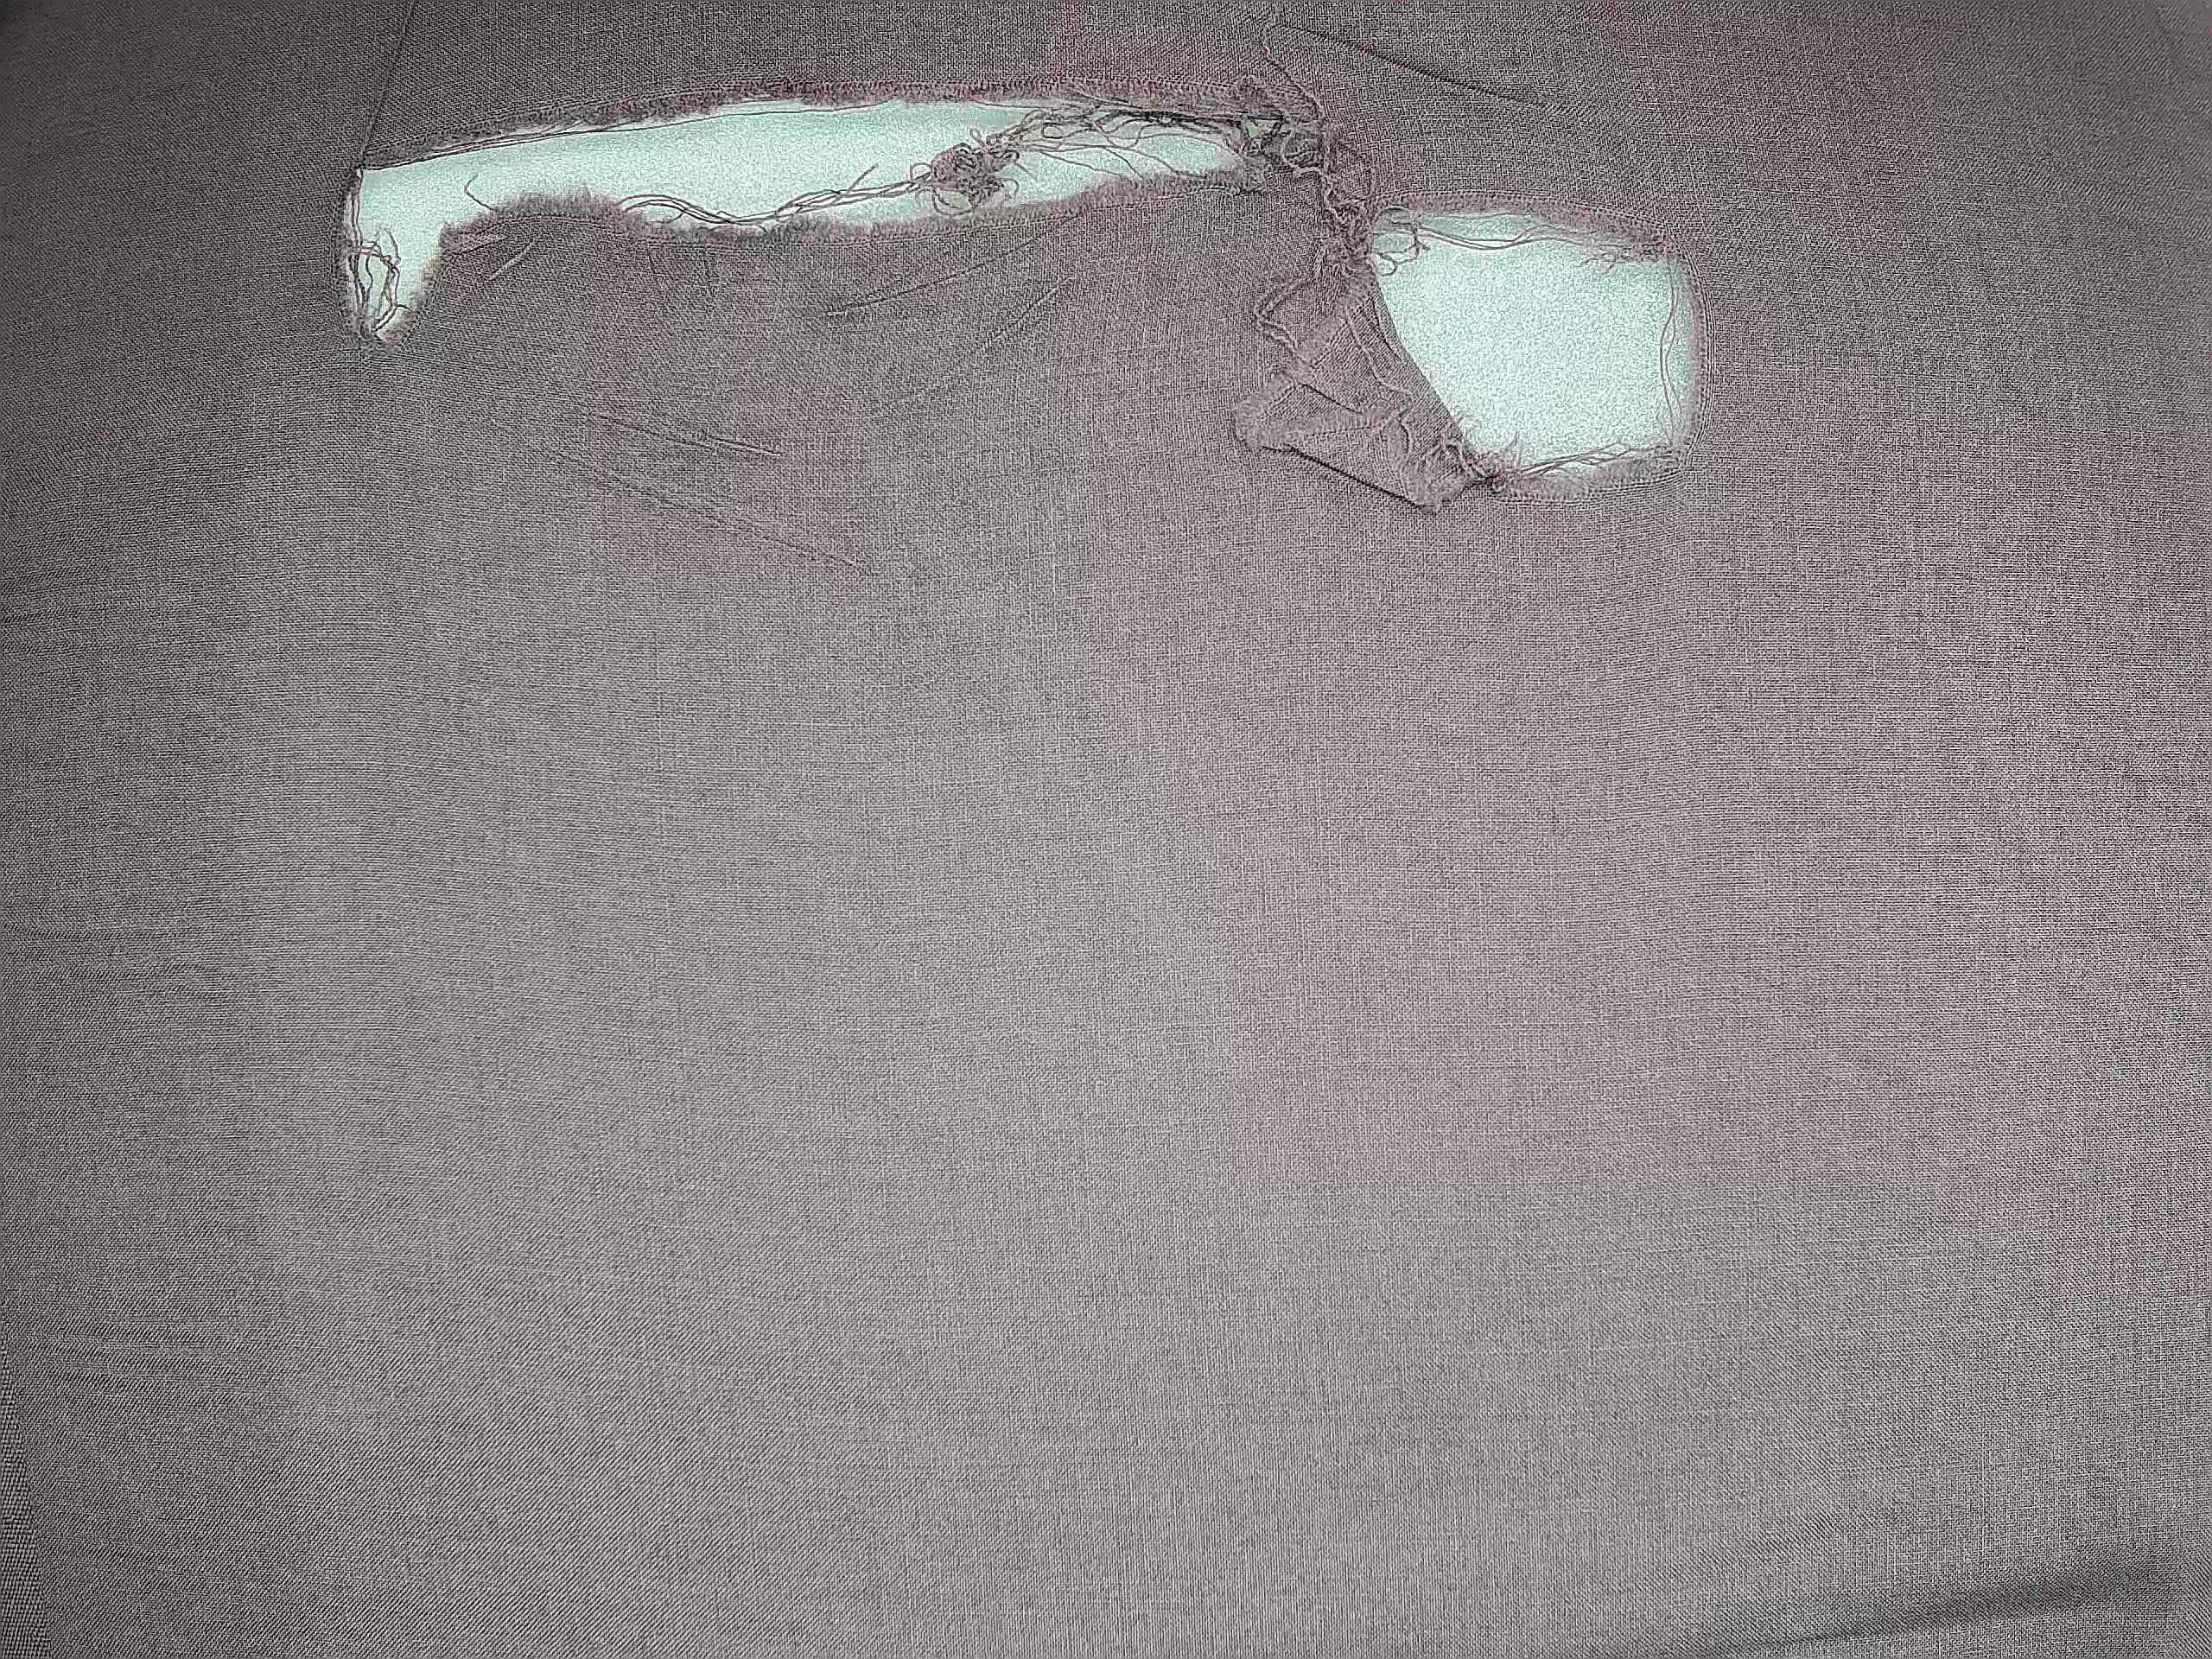rubbing-hole: (244, 44, 1803, 573)
